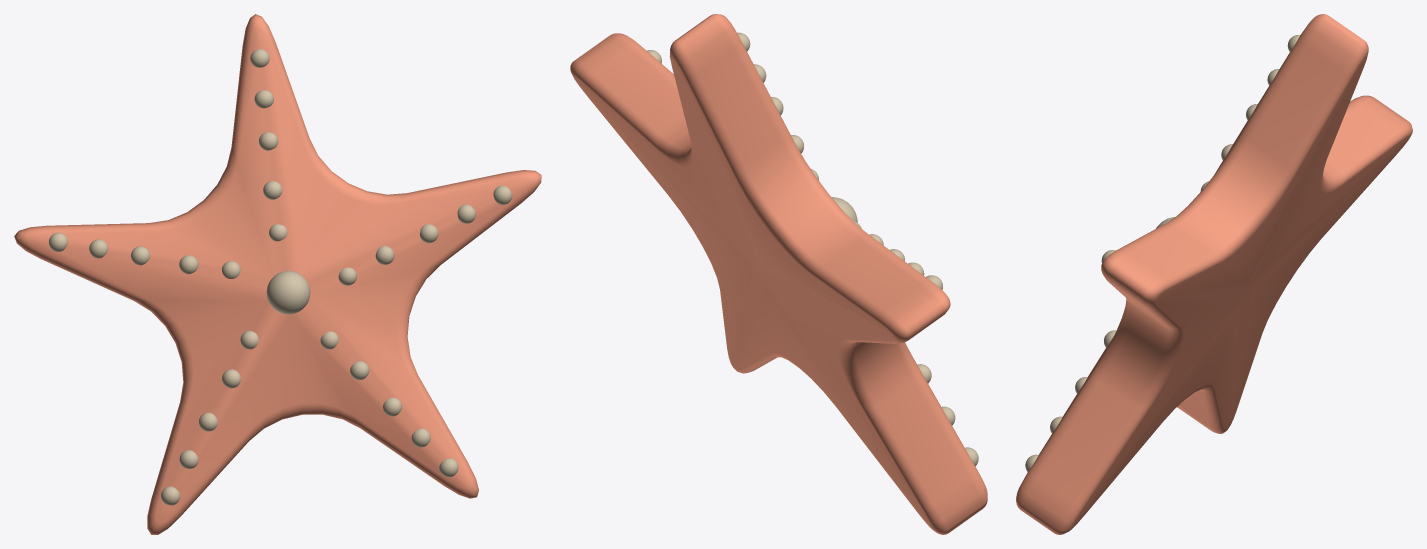
File: Starfish.glb
3 views of the same model, side by side, from view 1: azimuth 30°, elevation 25°; view 2: azimuth 150°, elevation 25°; view 3: azimuth 270°, elevation 25° (orthographic). The views are drawn at different scales.
Parts seen in each view (by area): view 1: Star.001, Sphere.025; view 2: Star.001; view 3: Star.001.
Part boxes in pixels (x1,y1,x2,y2): Star.001: (14, 14, 541, 534); Sphere.025: (266, 271, 310, 314); Star.001: (570, 14, 987, 534); Star.001: (1016, 14, 1412, 534).
Bounding box in the file's own units: 8.45 × 8.49 × 6.11.
